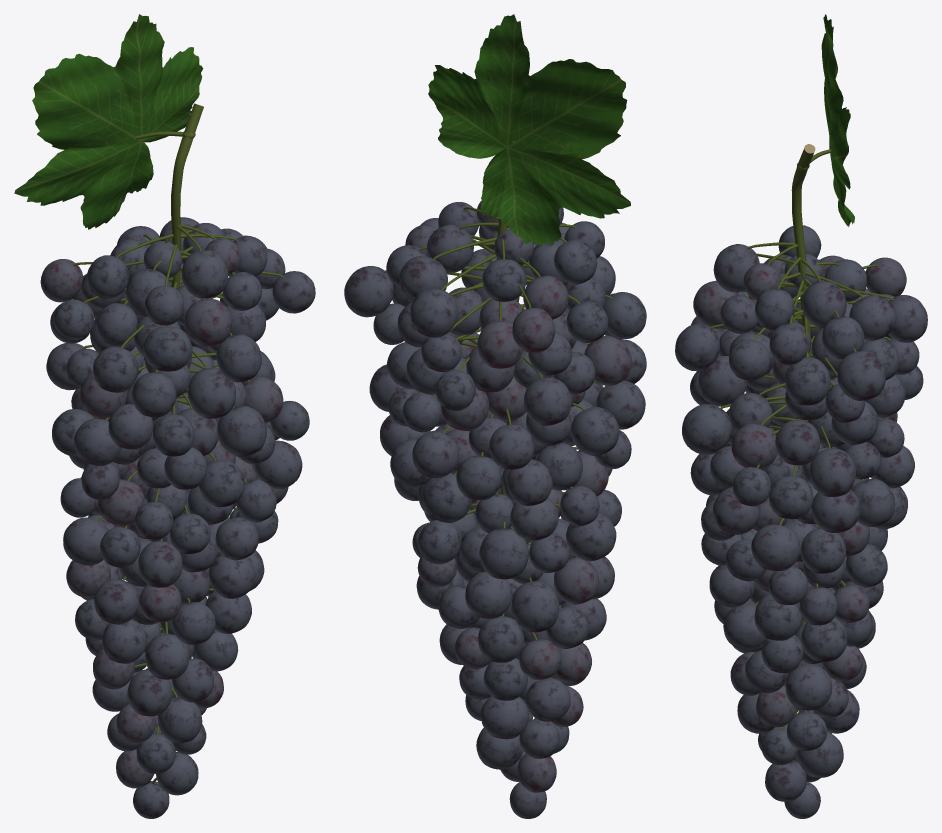
Rendered from liatiko_bunch.glb.
3 renders of one model, left to right at view 1: azimuth 30°, elevation 25°; view 2: azimuth 150°, elevation 25°; view 3: azimuth 270°, elevation 25°, orthographic. The views are drawn at different scales.
Parts seen in each view (by area): view 1: Liatiko_MuseumBunch; view 2: Liatiko_MuseumBunch; view 3: Liatiko_MuseumBunch.
Boxes of the visible parts, bbox=[...] form: Liatiko_MuseumBunch: bbox=[14, 14, 315, 818]; Liatiko_MuseumBunch: bbox=[344, 14, 646, 818]; Liatiko_MuseumBunch: bbox=[675, 14, 927, 818].
Bounding box in the file's own units: 0.1095 × 0.3132 × 0.0909.
10 materials, 7 textured.
